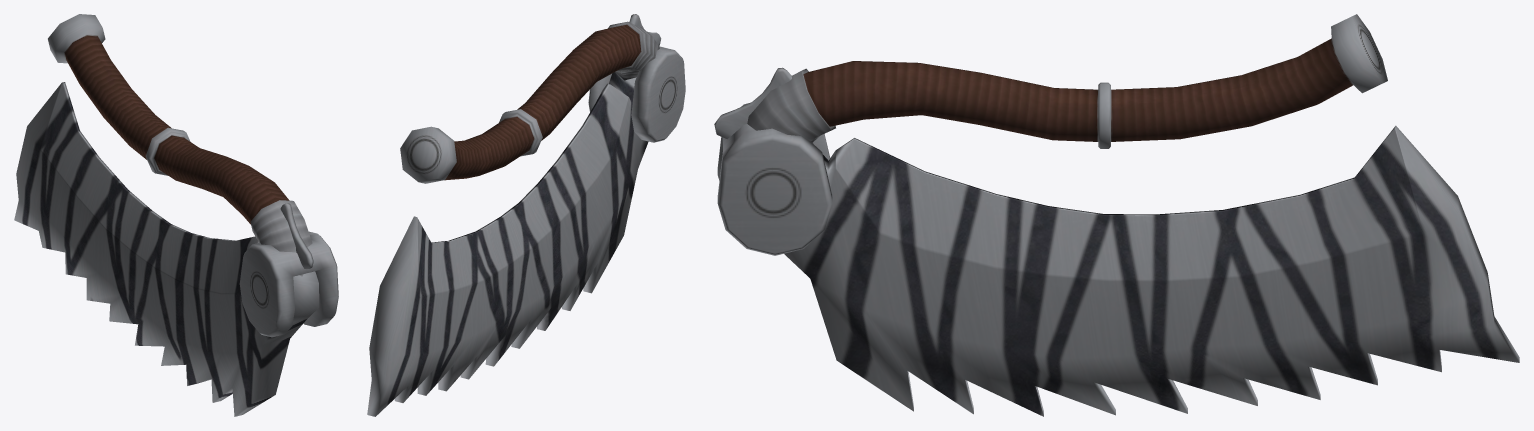
File: SawCleaver.fbx
3 renders of one model, left to right at view 1: azimuth 30°, elevation 25°; view 2: azimuth 150°, elevation 25°; view 3: azimuth 270°, elevation 25°, orthographic. The views are drawn at different scales.
Visible parts, largest first — view 1: Blade, Handle, Iron; view 2: Blade, Handle, Iron; view 3: Blade, Handle, Iron.
Part boxes in pixels (box(x1,y1,x2,y2)): Blade: box(14, 82, 319, 416); Handle: box(48, 14, 289, 224); Iron: box(239, 200, 338, 337); Blade: box(367, 71, 648, 416); Handle: box(400, 24, 641, 183); Iron: box(588, 14, 685, 142); Blade: box(784, 125, 1519, 416); Handle: box(803, 14, 1387, 148); Iron: box(714, 67, 835, 255).
Size of the model in its own units: 11.21 by 50.68 by 93.02.
1 material, 1 textured.
